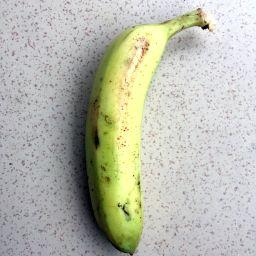Banana Ripe: (78, 9, 194, 252)
